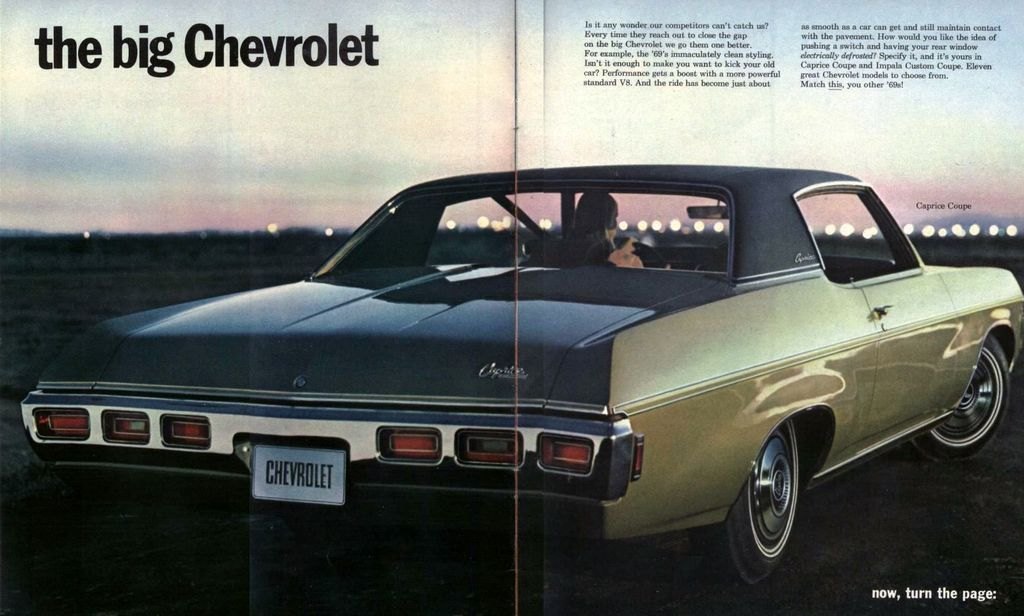Wheel: (684, 419, 804, 599), (908, 328, 1012, 465)
